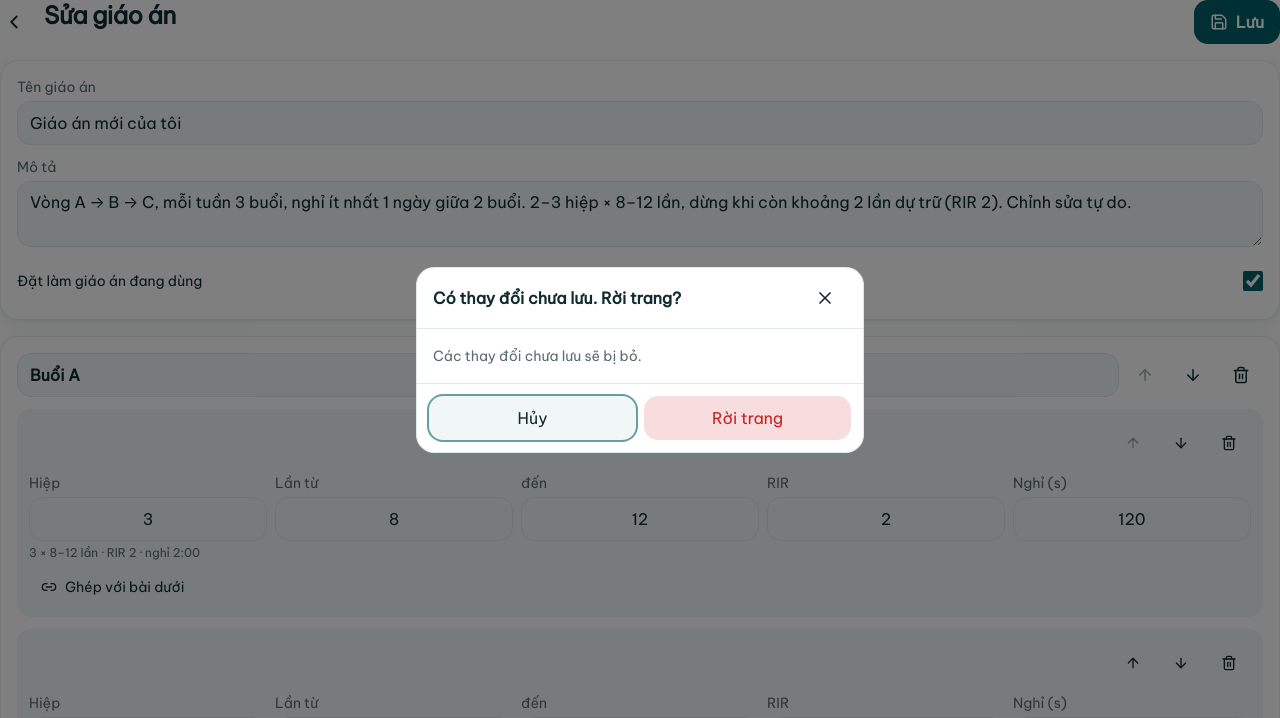
it: ProgramEditor — thay đổi chưa lưu › sửa tên → Quay lại → hiện hỏi xác nhận; chọn Hủy thì ở lại trang
Earlier steps of the test are not shown.
Expected: the dialog "Có thay đổi chưa lưu. Rời trang?" is shown, x1=416 y1=267 x2=864 y2=453
Click the button "Hủy" at x=532, y=418, box x1=429 y1=396 x2=636 y2=440
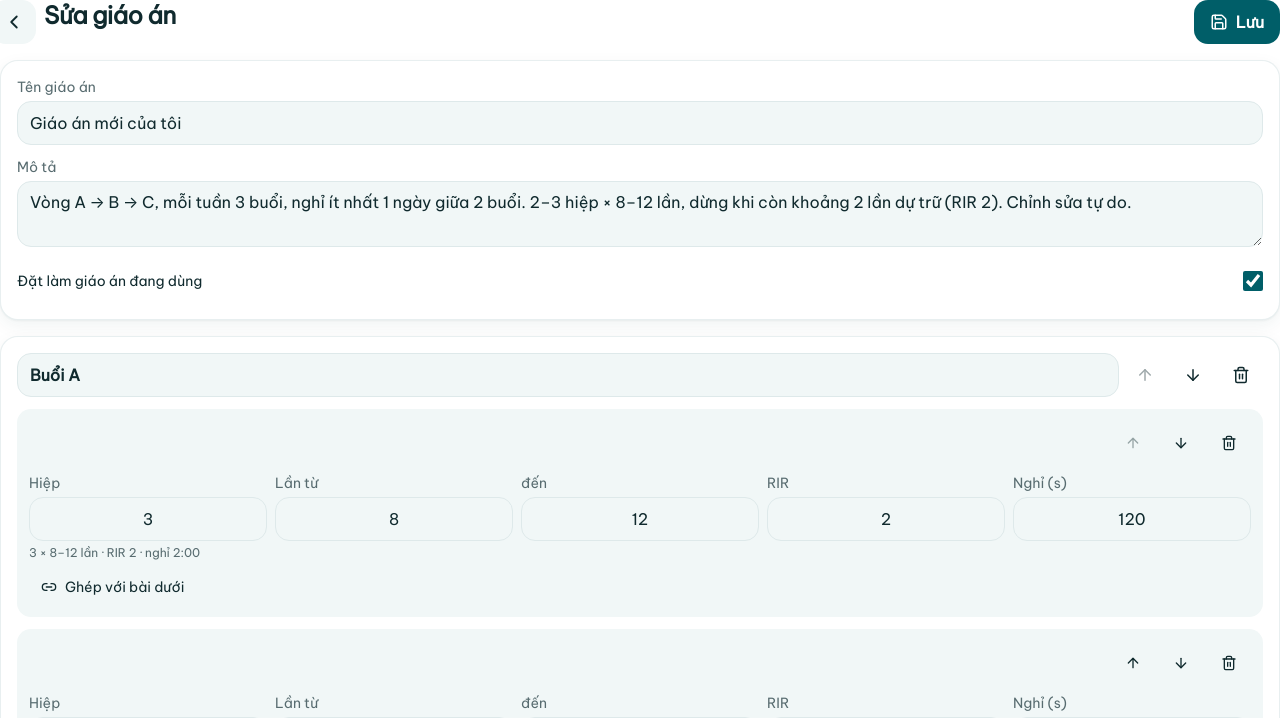
Result: the dialog is gone
